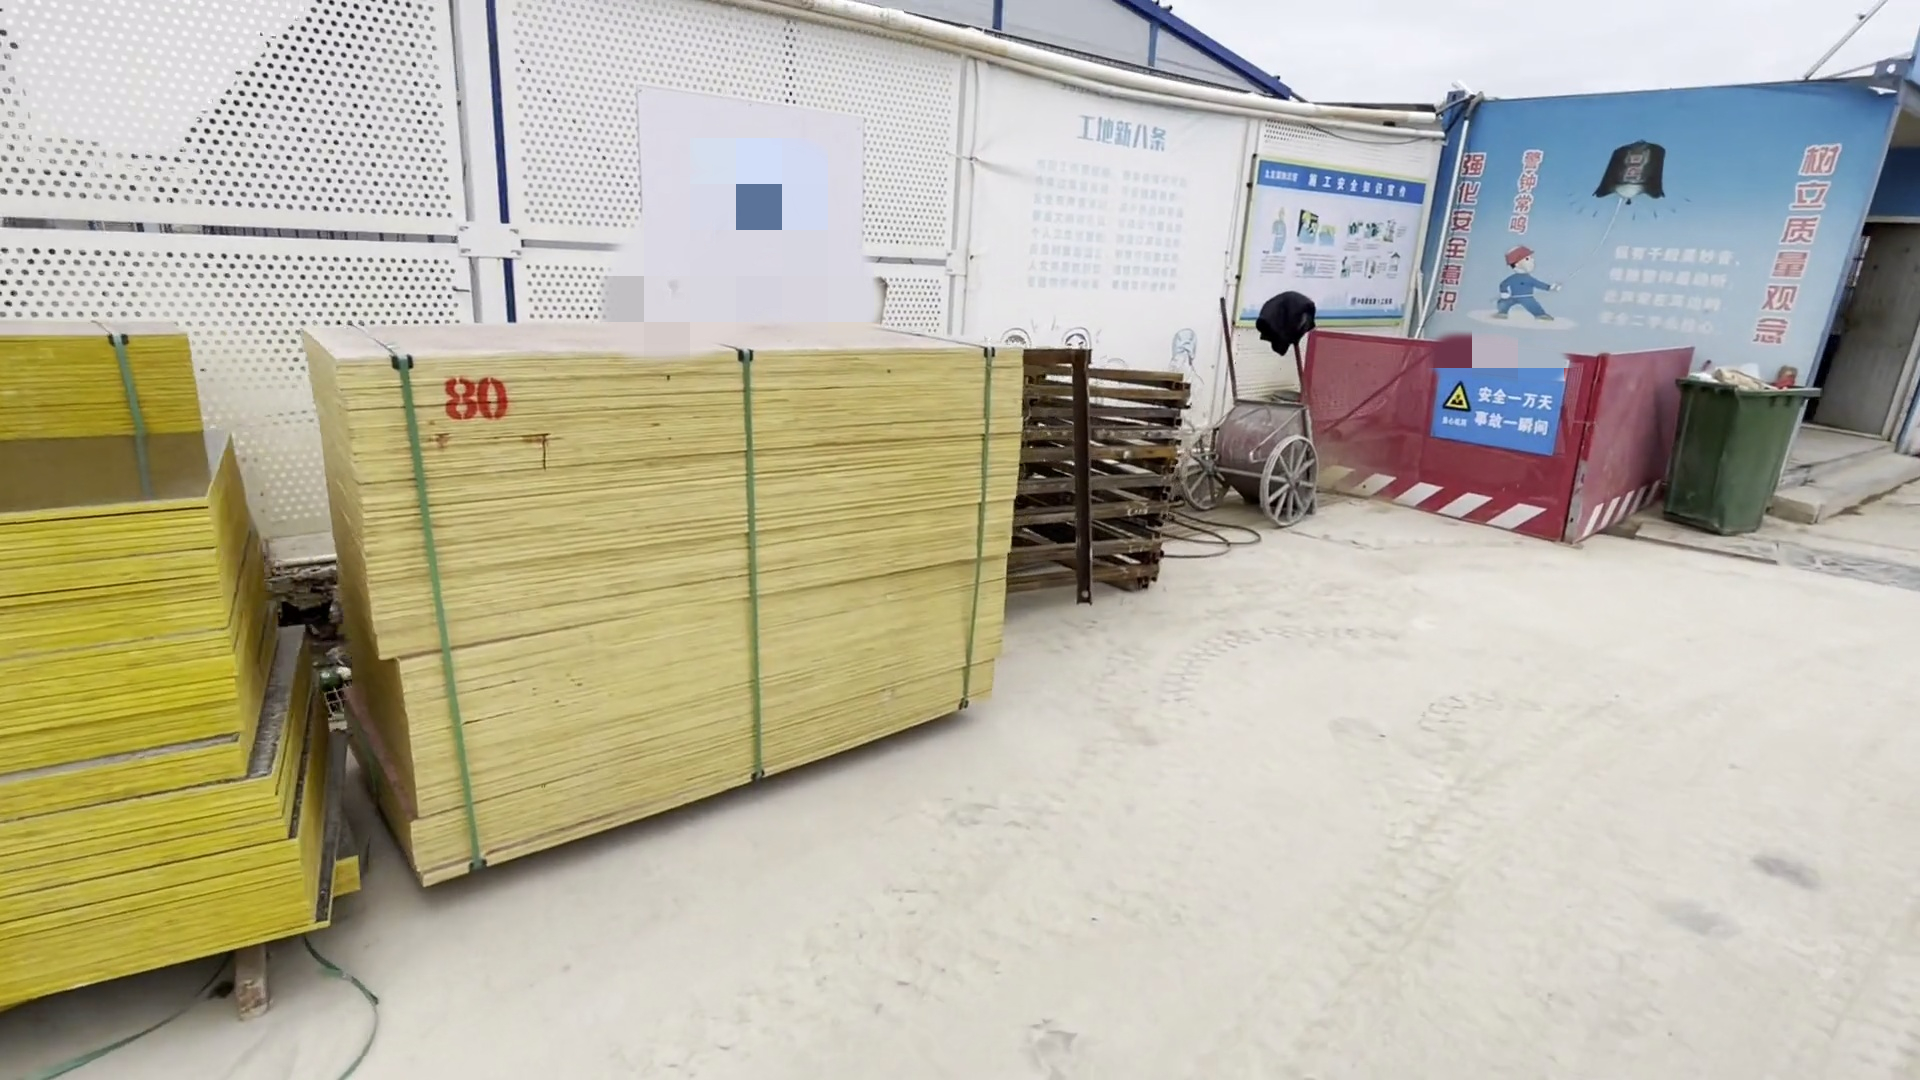board: (256, 318, 1044, 955), (1, 286, 314, 1010)
handcart: (1178, 285, 1328, 535)
slogan: (1433, 368, 1560, 458)
